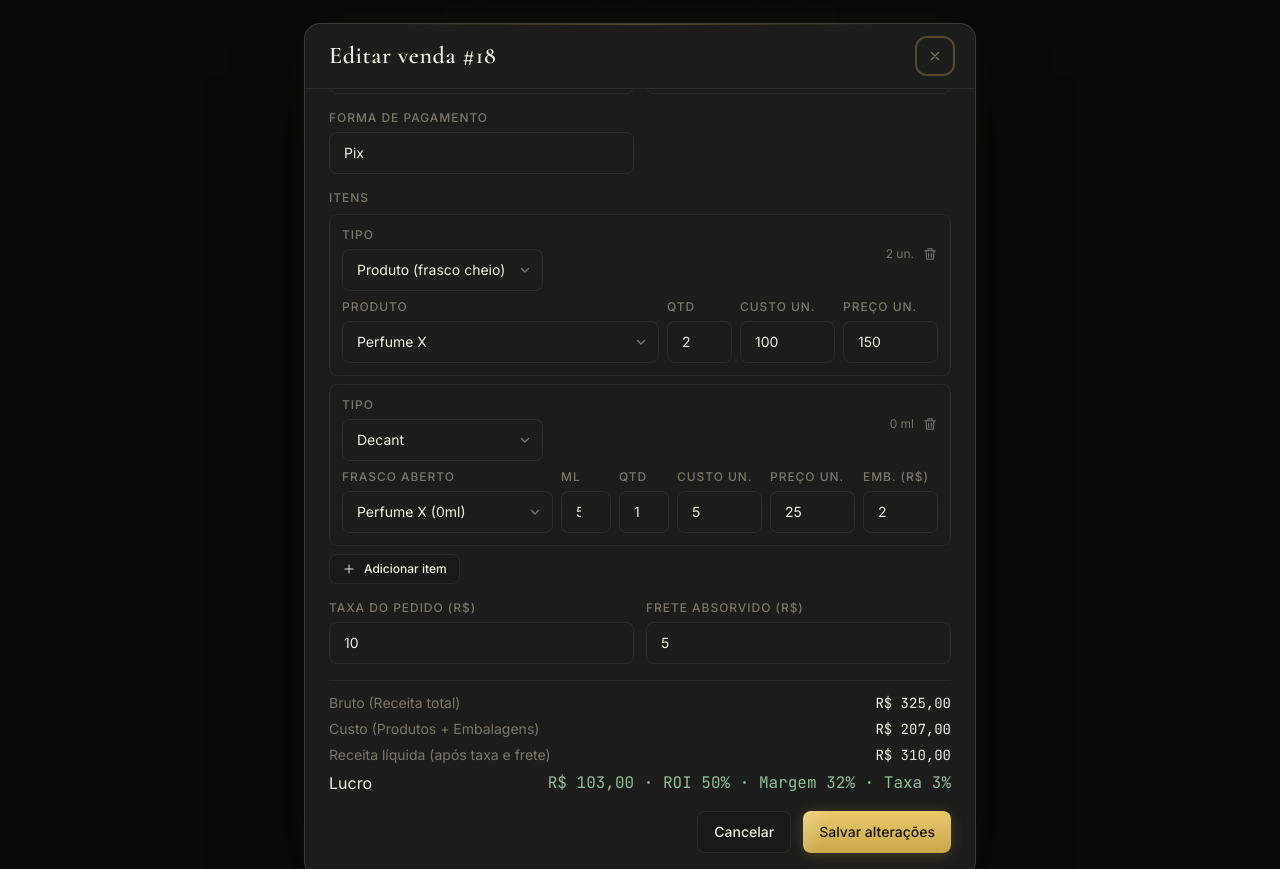
it: EditarVendaModal › mantem o formulario aberto e mostra o erro da rpc
The width and height of the screenshot is (1280, 869).
(page scrolled)
Check: the field labelled "Forma de pagamento" holds "Pix", box [329, 132, 634, 174]
Click the button "Salvar alterações" at (877, 832), box [803, 810, 951, 852]
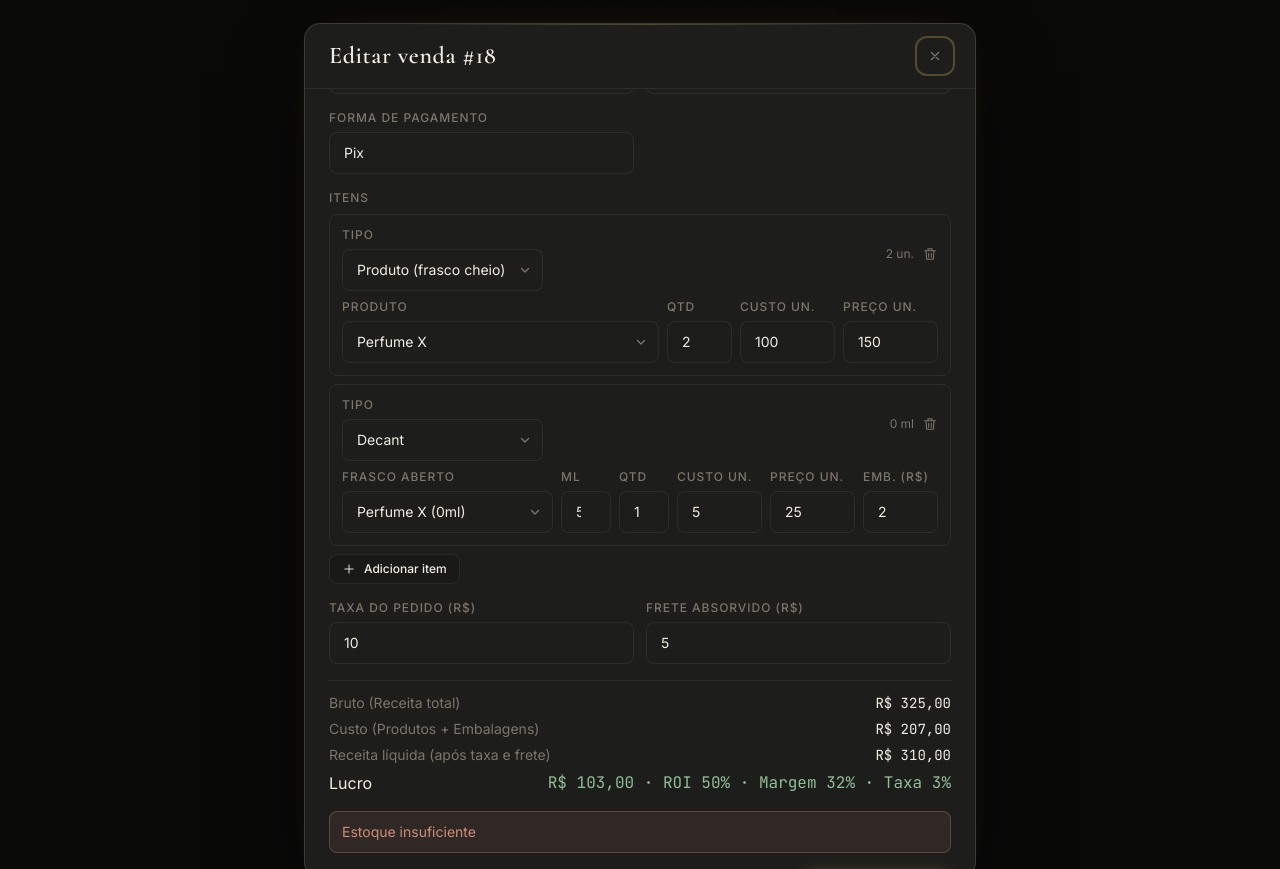
Check: the field labelled "Forma de pagamento" holds "Pix", box [329, 132, 634, 174]
Check: the text "Estoque insuficiente" is shown, box [329, 810, 951, 852]
